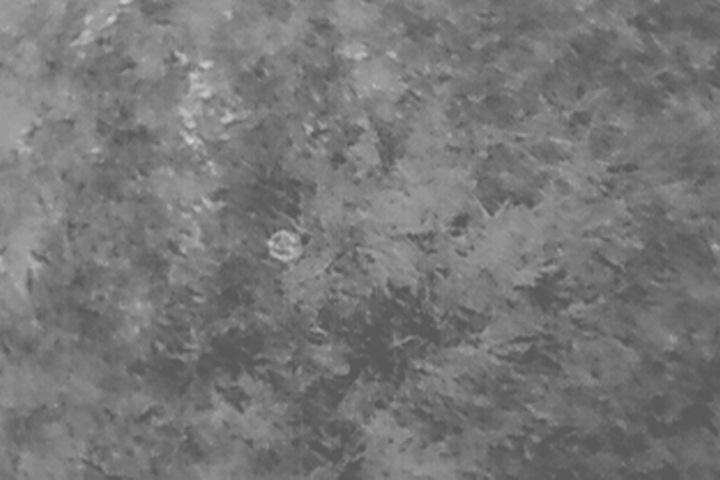landmine: (270, 227, 303, 265)
